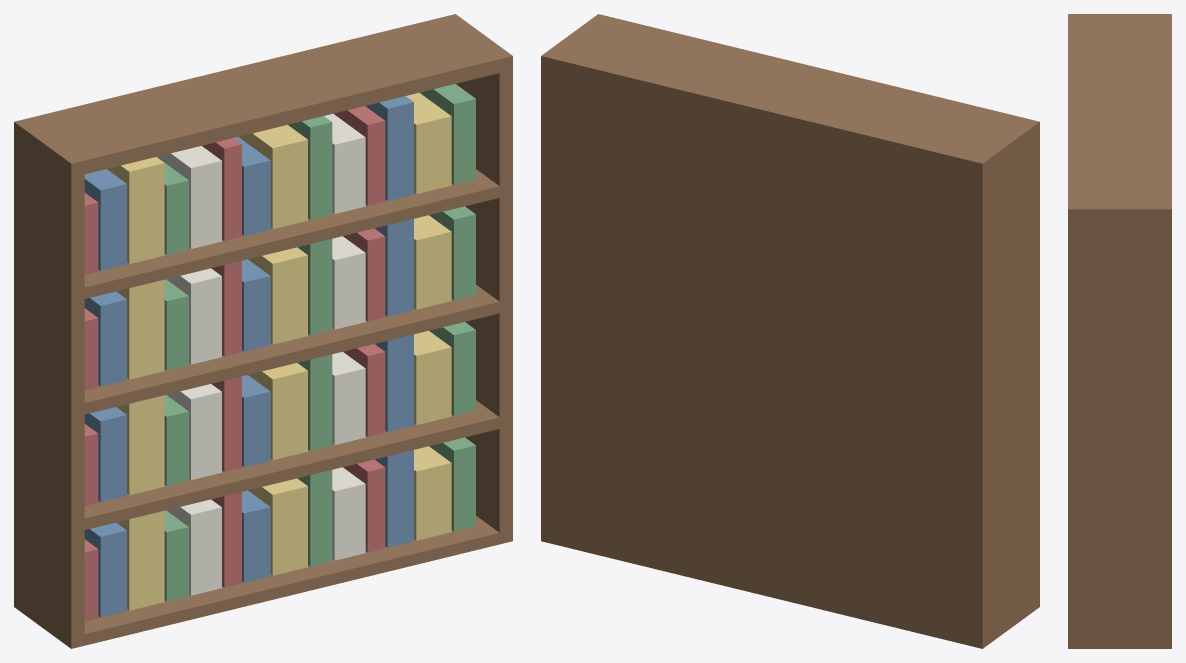
The model's file is bookcase.glb.
3 views of the same model, side by side, from view 1: azimuth 30°, elevation 25°; view 2: azimuth 150°, elevation 25°; view 3: azimuth 270°, elevation 25° (orthographic). The views are drawn at different scales.
Parts seen in each view (by area): view 1: bookcase; view 2: bookcase; view 3: bookcase.
Boxes of the visible parts, left/top/right/bottom form: bookcase: left=14, top=14, right=512, bottom=648; bookcase: left=541, top=14, right=1039, bottom=648; bookcase: left=1068, top=14, right=1171, bottom=648.
Size of the model in its own units: 2 by 2.1 by 0.45.
